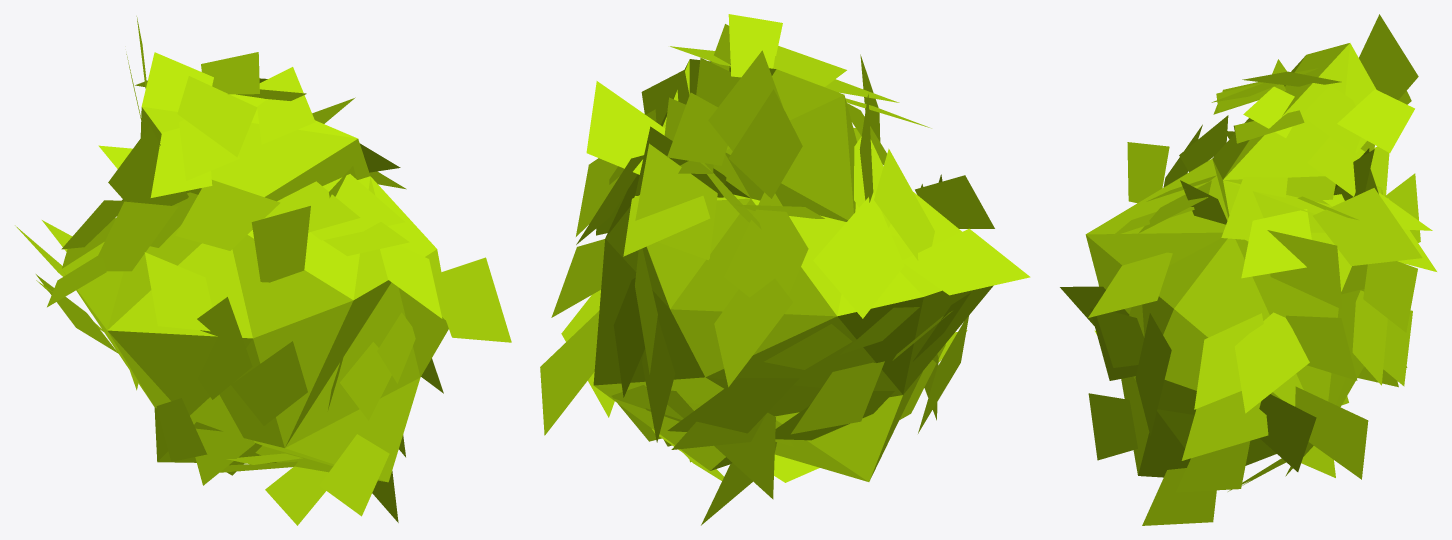
Rendered from SM_Bush_Round_Small.fbx.
3 views of the same model, side by side, from view 1: azimuth 30°, elevation 25°; view 2: azimuth 150°, elevation 25°; view 3: azimuth 270°, elevation 25° (orthographic). The views are drawn at different scales.
Visible parts, largest first — view 1: SM_Bush_Round_Small; view 2: SM_Bush_Round_Small; view 3: SM_Bush_Round_Small.
Part boxes in pixels (bbox=[...]): SM_Bush_Round_Small: bbox=[15, 16, 511, 525]; SM_Bush_Round_Small: bbox=[540, 14, 1030, 525]; SM_Bush_Round_Small: bbox=[1060, 14, 1436, 525].
Bounding box in the file's own units: 1.88 × 1.96 × 1.51.
